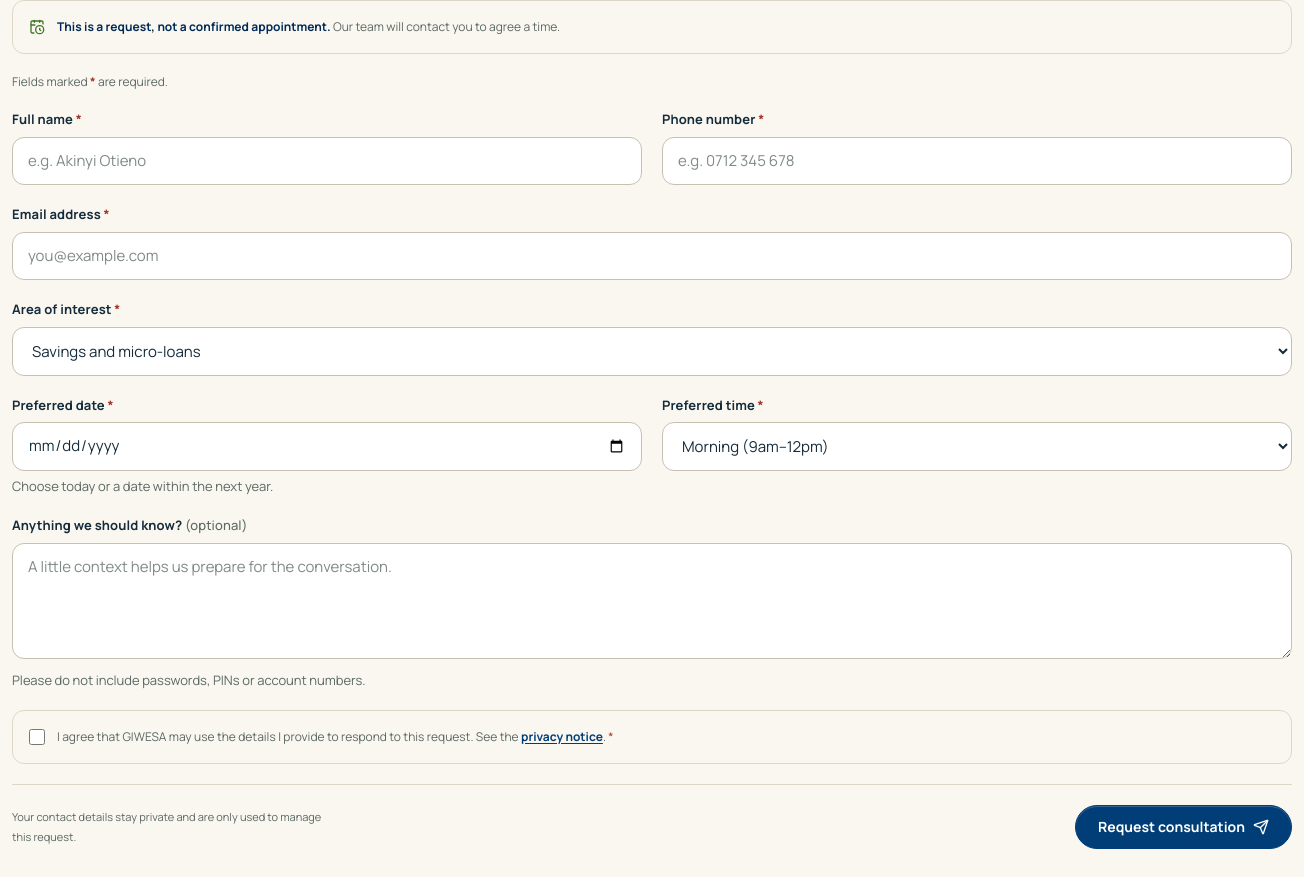
it: public booking form › requires the essential booking fields
The image size is (1304, 877).
Click the button "Request consultation" at (1184, 827), box [1075,805,1292,849]
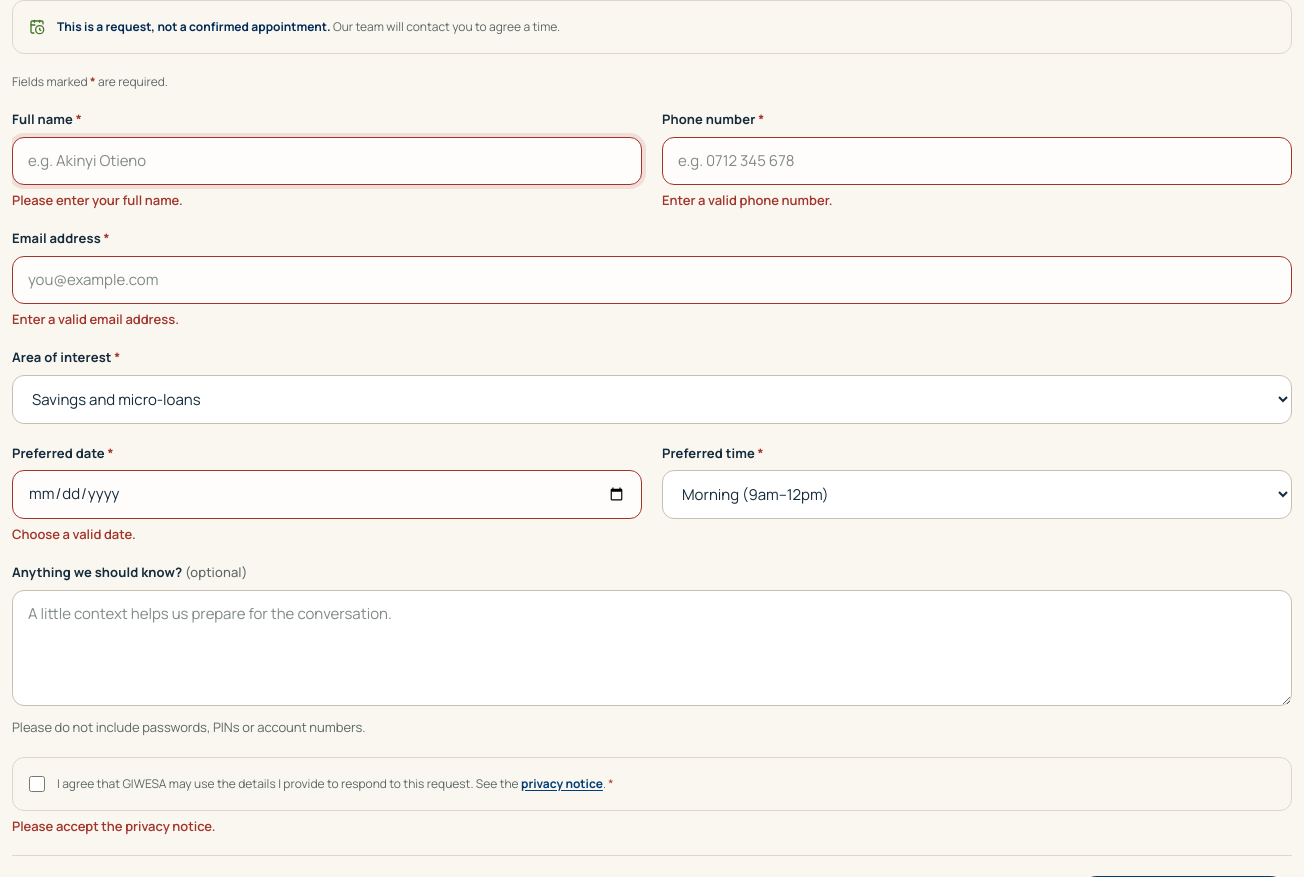
Expected: the text "Please enter your full name." is shown, [12,191,183,209]
Expected: the text "Choose a valid date." is shown, [12,525,136,543]
Expected: the text "Please accept the privacy notice." is shown, [12,817,216,835]
